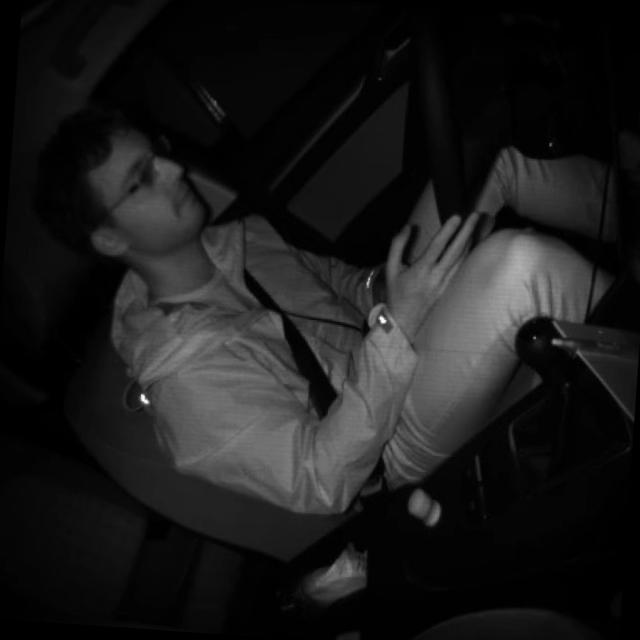pen: (548, 334, 640, 358)
